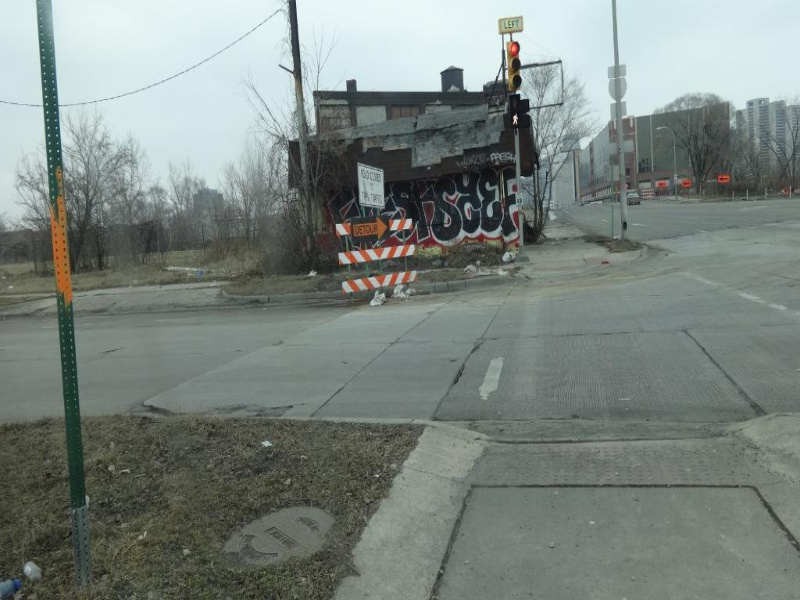red_light: (494, 36, 532, 63)
